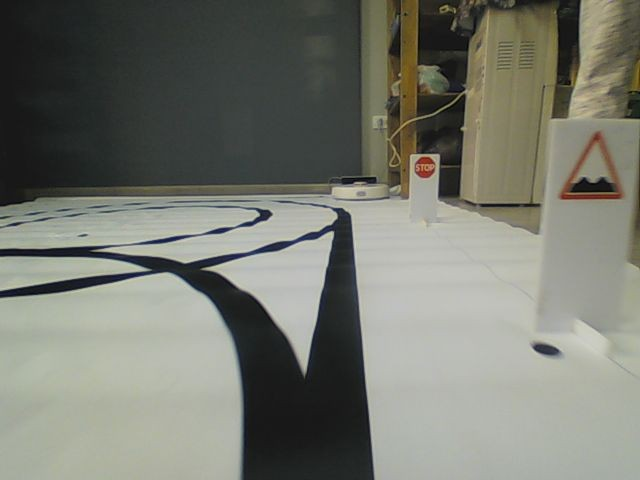Stop: (413, 155, 437, 179)
